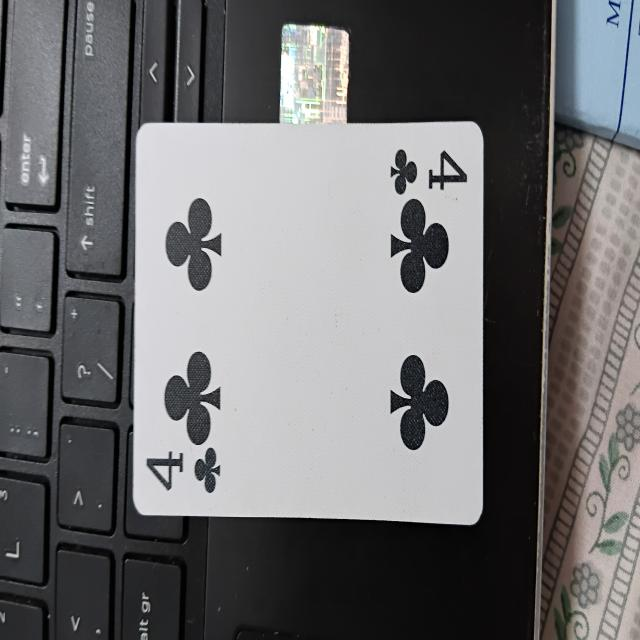4C: (136, 124, 484, 523)
